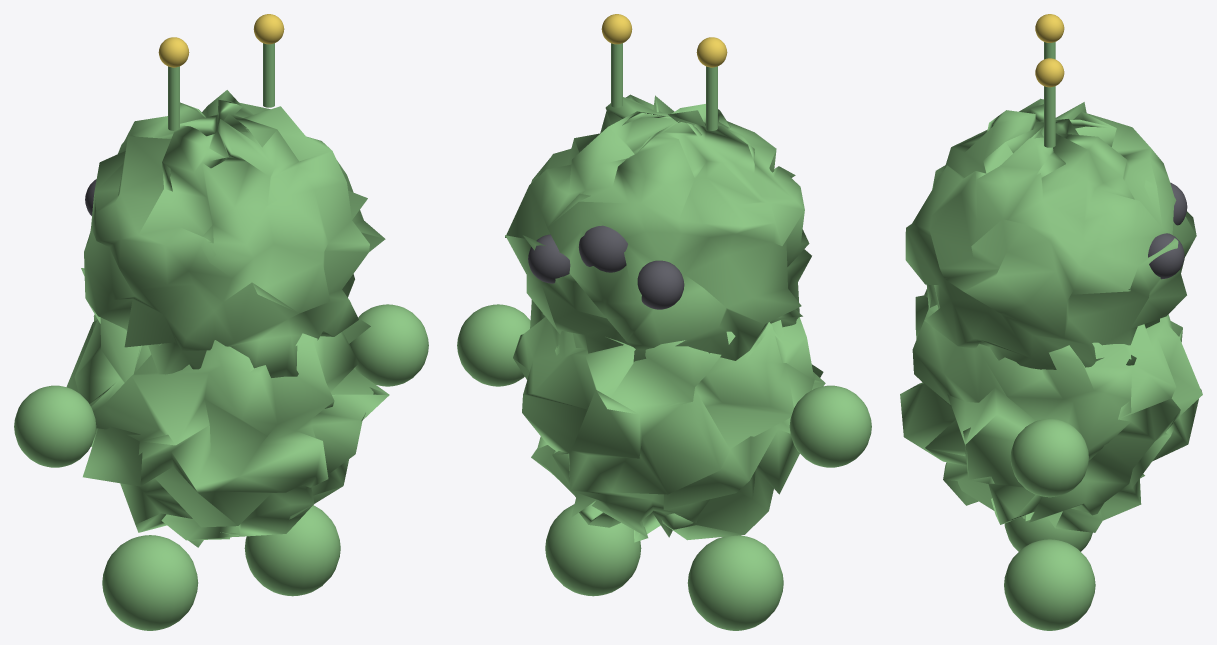
Rendered from clay_alien_three_eyes.glb.
The picture shows the model from 3 angles, left to right: view 1: azimuth 30°, elevation 25°; view 2: azimuth 150°, elevation 25°; view 3: azimuth 270°, elevation 25°; orthographic projection. The views are drawn at different scales.
Parts seen in each view (by area): view 1: anttip.001; view 2: anttip.001; view 3: anttip.001.
Boxes of the visible parts, <box> form: anttip.001: <box>14,14,428,630</box>; anttip.001: <box>457,14,871,630</box>; anttip.001: <box>900,14,1202,630</box>.
Bounding box in the file's own units: 1.53 × 2.11 × 1.04.
